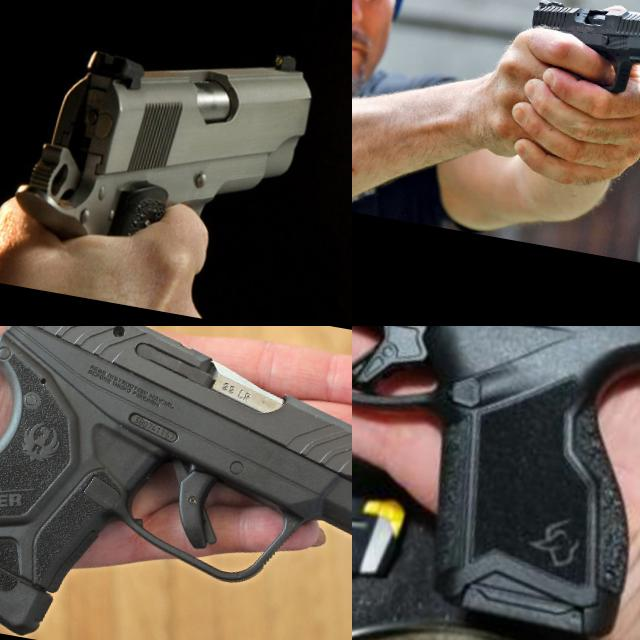handgun: (0, 326, 352, 640), (352, 326, 640, 640), (3, 9, 326, 281), (516, 0, 640, 108)
